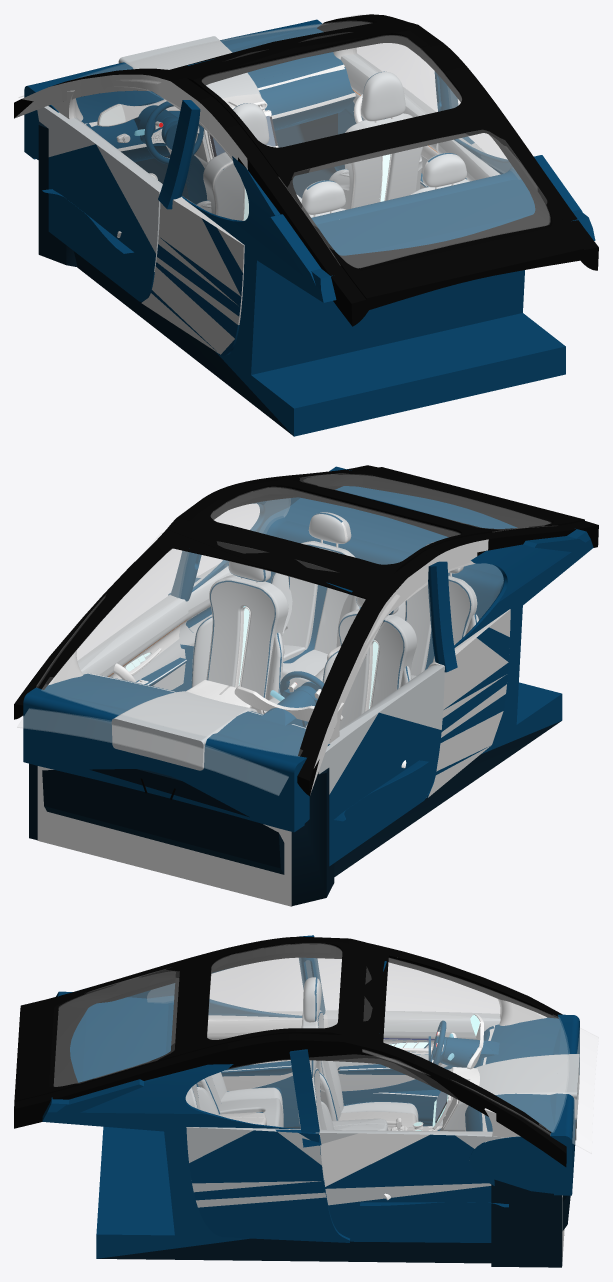
The model's file is innenraum_lod0.glb.
The picture shows the model from 3 angles, top to bottom: view 1: azimuth 30°, elevation 25°; view 2: azimuth 150°, elevation 25°; view 3: azimuth 270°, elevation 25°; orthographic projection. The views are drawn at different scales.
Visible parts, largest first — view 1: Innen_Leder_blau, Innen_Glas, Innen_Alcantara, Innen_Leder_weiss, Innen_Sitz_Naht, Innen_Teppich, Innen_Kunststoff_02, Lenkrad, Innen_Metall_satin, Innen_Kunststoff_01; view 2: Innen_Glas, Innen_Leder_blau, Innen_Leder_weiss, Innen_Alcantara, Innen_Teppich, Innen_Metall_satin, Innen_Sitz_Naht, Innen_Kunststoff_02, Innen_Material_2537, Lenkrad, Innen_Kunststoff_01; view 3: Innen_Leder_blau, Innen_Glas, Innen_Alcantara, Innen_Leder_weiss, Innen_Teppich, Innen_Sitz_Naht, Innen_Kunststoff_02, Innen_Metall_satin, Lenkrad.
Boxes of the visible parts, box(x1,y1,x2,y2) form: Innen_Leder_blau: box(24, 19, 595, 436); Innen_Glas: box(19, 15, 549, 268); Innen_Alcantara: box(14, 14, 598, 326); Innen_Leder_weiss: box(37, 36, 500, 271); Innen_Sitz_Naht: box(51, 48, 356, 354); Innen_Teppich: box(38, 113, 337, 436); Innen_Kunststoff_02: box(14, 74, 453, 220); Lenkrad: box(144, 101, 203, 164); Innen_Metall_satin: box(97, 94, 438, 237); Innen_Kunststoff_01: box(100, 105, 390, 220); Innen_Glas: box(17, 473, 550, 795); Innen_Leder_blau: box(23, 466, 593, 866); Innen_Leder_weiss: box(77, 512, 478, 794); Innen_Alcantara: box(14, 465, 598, 796); Innen_Teppich: box(29, 721, 561, 906); Innen_Metall_satin: box(37, 623, 406, 906); Innen_Sitz_Naht: box(48, 609, 510, 797); Innen_Kunststoff_02: box(129, 539, 488, 794); Innen_Material_2537: box(207, 544, 471, 697); Lenkrad: box(280, 671, 323, 702); Innen_Kunststoff_01: box(126, 608, 378, 708); Innen_Leder_blau: box(42, 935, 579, 1258); Innen_Glas: box(54, 943, 598, 1153); Innen_Alcantara: box(14, 936, 566, 1166); Innen_Leder_weiss: box(185, 977, 579, 1207); Innen_Teppich: box(97, 1119, 576, 1267); Innen_Sitz_Naht: box(207, 999, 546, 1137); Innen_Kunststoff_02: box(310, 1022, 458, 1186); Innen_Metall_satin: box(384, 1014, 564, 1261); Lenkrad: box(428, 1020, 446, 1065).
Bounding box in the file's own units: 1.72 × 1.29 × 3.15.
